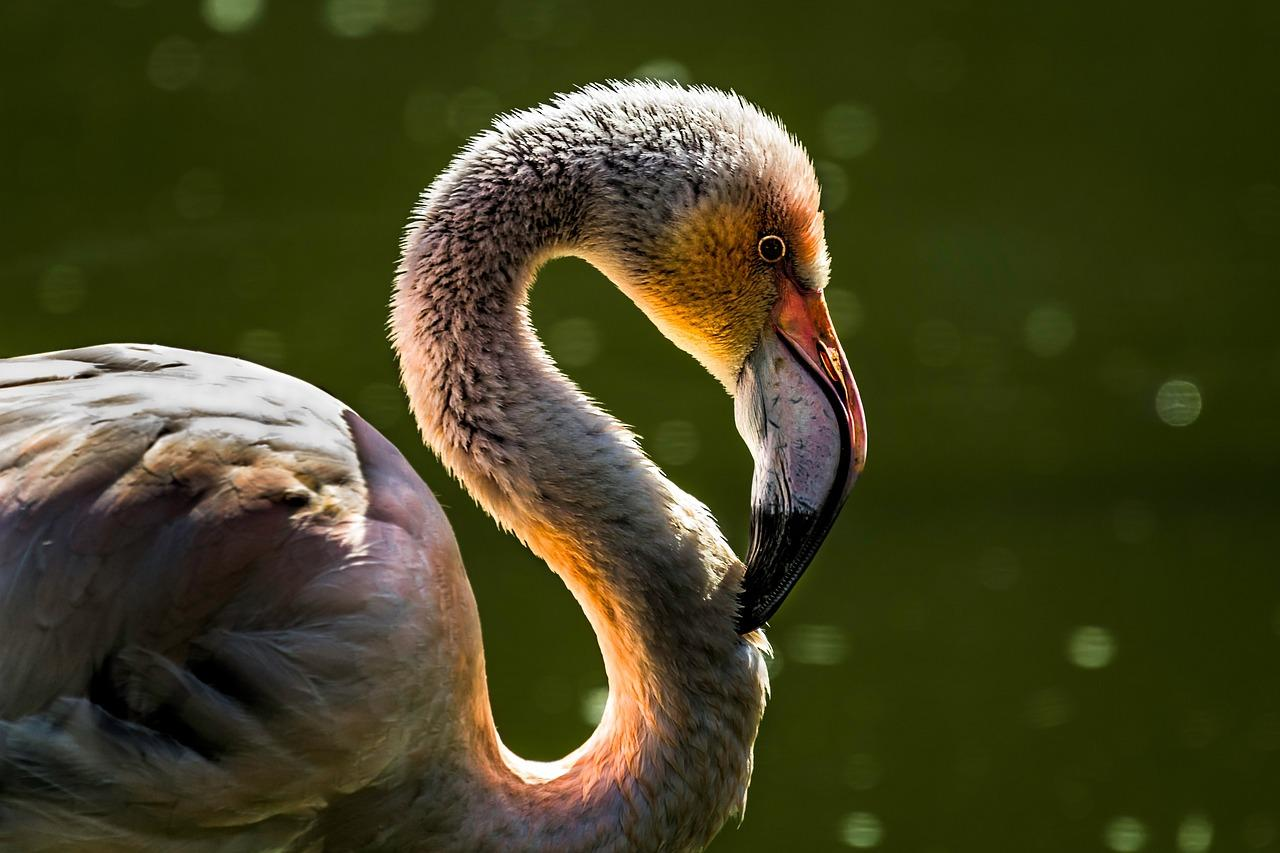bird: (0, 82, 863, 852)
